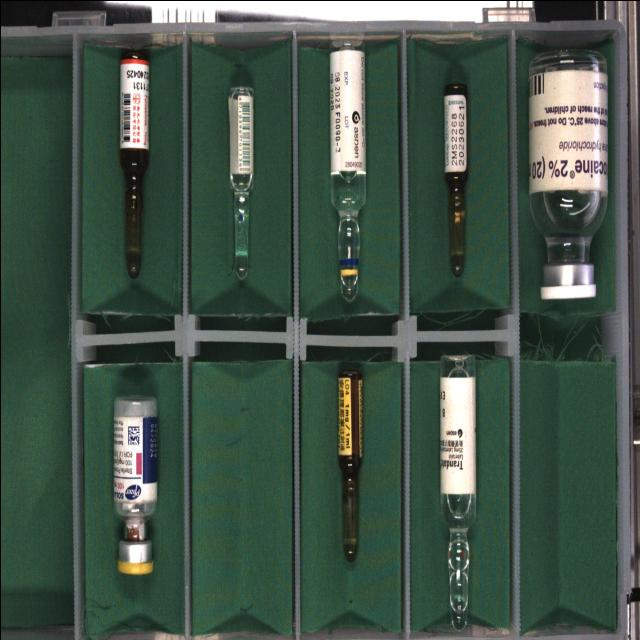Vials: (528, 51, 607, 299), (113, 396, 157, 574)
